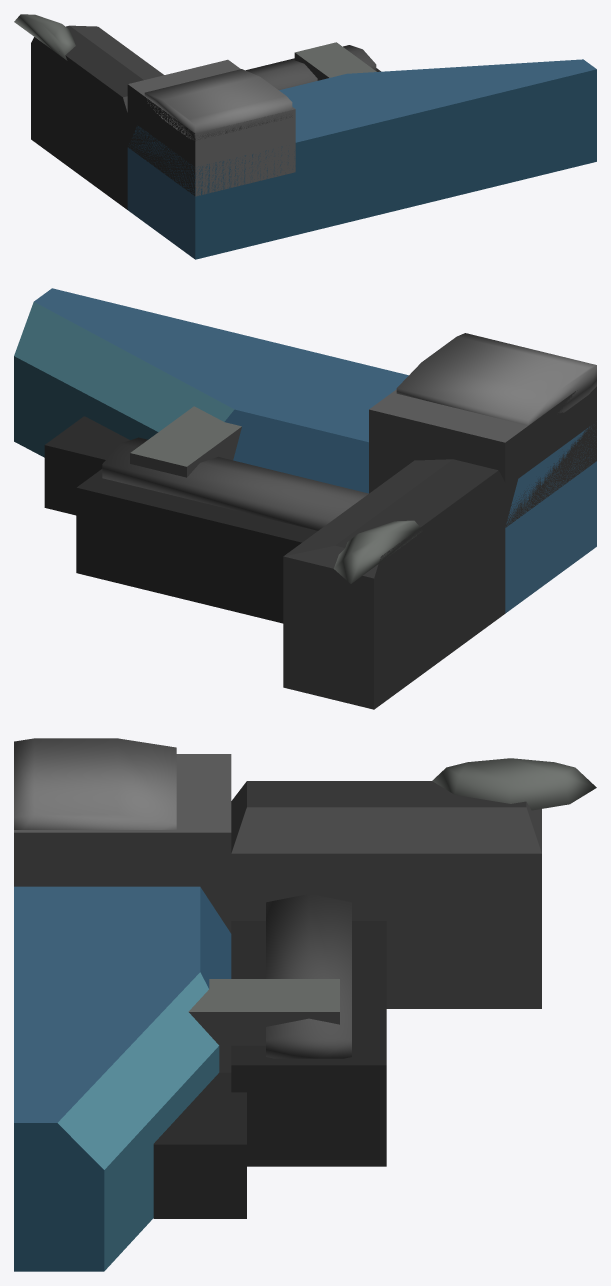
The model's file is newsho-13.glb.
3 views of the same model, one above another, from view 1: azimuth 30°, elevation 25°; view 2: azimuth 150°, elevation 25°; view 3: azimuth 270°, elevation 25° (orthographic). The views are drawn at different scales.
Parts seen in each view (by area): view 1: newsho-13; view 2: newsho-13; view 3: newsho-13.
Part boxes in pixels (bbox=[...]): newsho-13: bbox=[14, 14, 596, 259]; newsho-13: bbox=[14, 288, 596, 709]; newsho-13: bbox=[14, 738, 596, 1271].
Bounding box in the file's own units: 2 × 0.6462 × 1.56.
